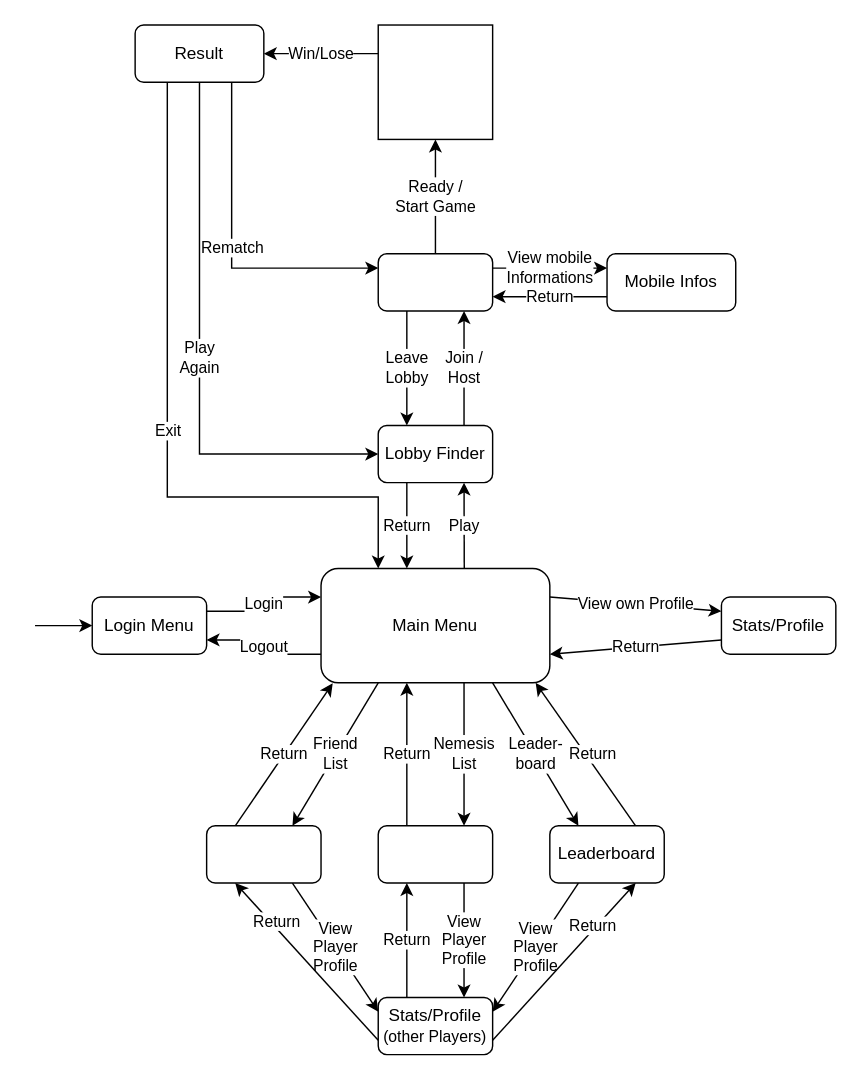
Image size: 861x1080. Some labels were removed from this diagram. The shapes that lost their labels are listed below. From the top down, each one's box as (x1, y1, x2, y2) in pixels, then its label:
(377, 24, 493, 139): Game
(377, 252, 493, 311): Lobby
(205, 824, 321, 883): Friends
(377, 824, 493, 883): Nemesis
